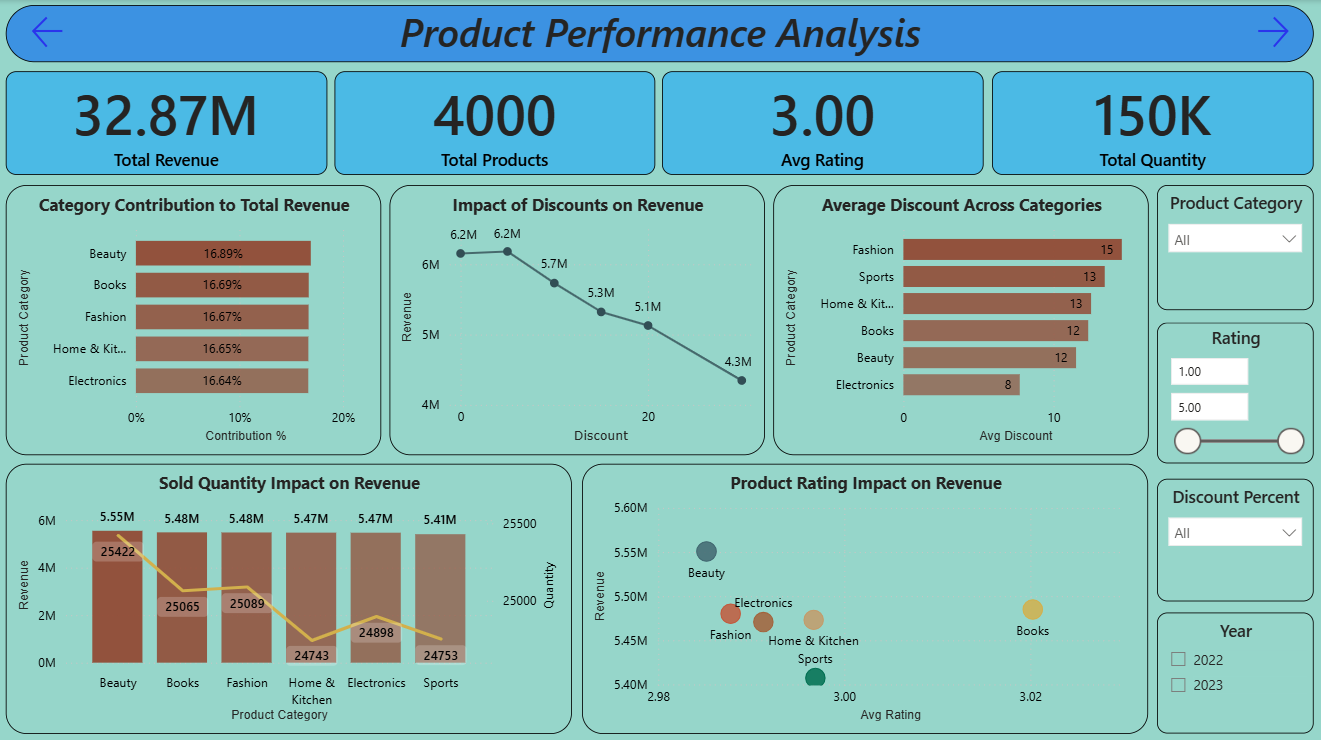

The page's visual inventory and layout, read from the dashboard file:
{"tool":"powerbi","page":{"name":"Product performance Analysis","canvas":[1280,720],"ordinal":1},"visuals":[{"type":"textbox","title":"Product Performance Analysis","box":[8.1,5,1262,55],"z":0},{"type":"card","fields":{"Values":["amazon_sales.Total Revenue"]},"box":[8.6,68.5,310,100.3],"z":1000},{"type":"card","fields":{"Values":["amazon_sales.Total Orders"]},"box":[326,68.5,309.4,100.3],"z":2000},{"type":"card","fields":{"Values":["amazon_sales.Average Product Rating"]},"box":[642,68.5,310,100.3],"z":3000},{"type":"card","fields":{"Values":["amazon_sales.Total Quantity"]},"box":[959.9,68.5,310.6,100.3],"z":4000},{"type":"clusteredBarChart","title":"Category Contribution to Total Revenue","fields":{"Category":["amazon_sales.product_category"],"Y":["amazon_sales.Revenue Contribution %"]},"box":[8.4,178.6,362,260.6],"z":5000},{"type":"clusteredBarChart","title":"Average Discount Across Categories","fields":{"Category":["amazon_sales.product_category"],"Y":["amazon_sales.Avg Discount"]},"box":[749,178.6,362,260.6],"z":6000},{"type":"scatterChart","title":"Product Rating Impact on Revenue","fields":{"X":["amazon_sales.Average Rating"],"Y":["Sum(amazon_sales.total_revenue)"],"Series":["amazon_sales.product_category"],"Size":["Sum(amazon_sales.quantity_sold)"]},"box":[564.6,447.6,546.5,260.6],"z":7000},{"type":"lineClusteredColumnComboChart","title":"Sold Quantity Impact on Revenue","fields":{"Category":["amazon_sales.product_category"],"Y2":["Sum(amazon_sales.quantity_sold)"],"Y":["Sum(amazon_sales.total_revenue)"]},"box":[8.4,447.6,546,260.6],"z":8000},{"type":"slicer","title":"Product Category","fields":{"Values":["amazon_sales.product_category"]},"box":[1119.6,178.6,150.8,120.6],"z":9000},{"type":"slicer","title":"Rating","fields":{"Values":["amazon_sales.rating"]},"box":[1119.6,311.3,150.8,136.3],"z":10000},{"type":"slicer","title":"Discount Percent","fields":{"Values":["amazon_sales.discount_percent"]},"box":[1119.6,462.1,150.8,118.2],"z":11000},{"type":"slicer","title":"Year","fields":{"Values":["amazon_sales.year"]},"box":[1119.6,591.2,150.8,117],"z":12000},{"type":"lineChart","title":"Impact of Discounts on Revenue","fields":{"Category":["amazon_sales.discount_percent"],"Y":["Sum(amazon_sales.total_revenue)"]},"box":[379,178.6,362,260.6],"z":13000},{"type":"actionButton","box":[29.1,11.1,40.1,40.1],"z":14000},{"type":"actionButton","box":[1211.1,11.1,40.1,40.1],"z":15000}]}

Visuals, with their boxes in screenshot pixels (x1, y1, x2, y2), scaled from the page's 1280x720 canvas onto the 1321x740 screenshot:
"Product Performance Analysis" textbox: box=[8, 5, 1311, 62]
card - amazon_sales.Total Revenue: box=[9, 70, 329, 173]
card - amazon_sales.Total Orders: box=[336, 70, 656, 173]
card - amazon_sales.Average Product Rating: box=[663, 70, 982, 173]
card - amazon_sales.Total Quantity: box=[991, 70, 1311, 173]
"Category Contribution to Total Revenue" clusteredBarChart: box=[9, 184, 382, 451]
"Average Discount Across Categories" clusteredBarChart: box=[773, 184, 1147, 451]
"Product Rating Impact on Revenue" scatterChart: box=[583, 460, 1147, 728]
"Sold Quantity Impact on Revenue" lineClusteredColumnComboChart: box=[9, 460, 572, 728]
"Product Category" slicer: box=[1155, 184, 1311, 308]
"Rating" slicer: box=[1155, 320, 1311, 460]
"Discount Percent" slicer: box=[1155, 475, 1311, 596]
"Year" slicer: box=[1155, 608, 1311, 728]
"Impact of Discounts on Revenue" lineChart: box=[391, 184, 765, 451]
actionButton: box=[30, 11, 71, 53]
actionButton: box=[1250, 11, 1291, 53]
